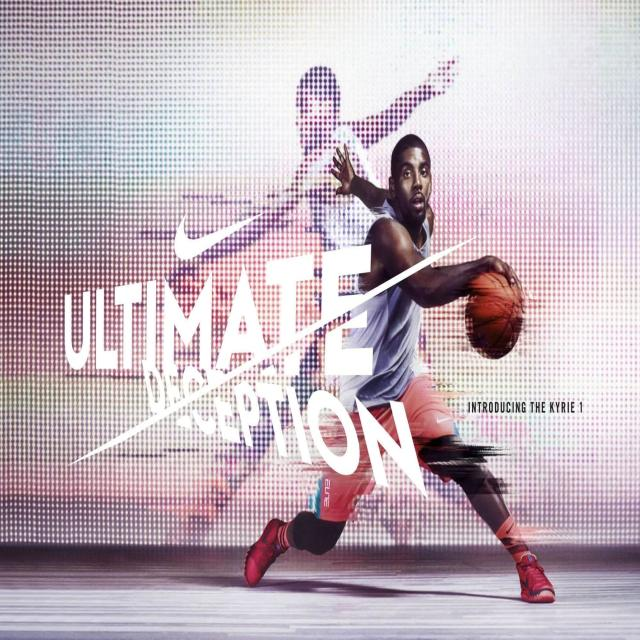nike: (172, 208, 269, 280)
